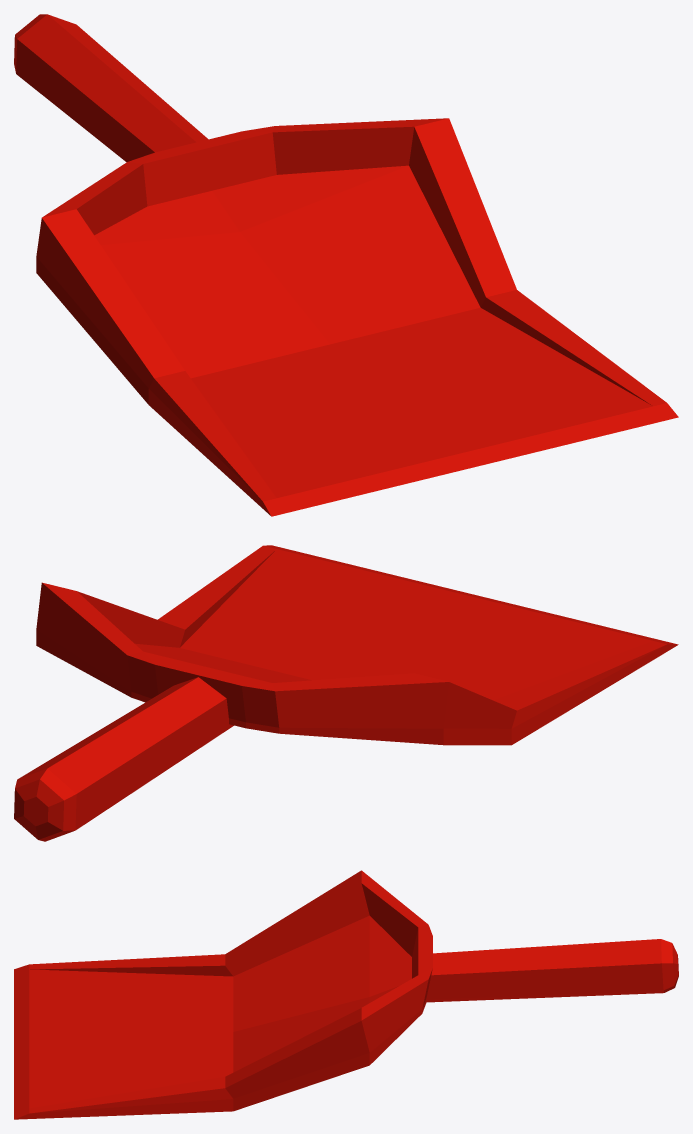
File: Dustpan.fbx
3 views of the same model, one above another, from view 1: azimuth 30°, elevation 25°; view 2: azimuth 150°, elevation 25°; view 3: azimuth 270°, elevation 25° (orthographic). The views are drawn at different scales.
Parts seen in each view (by area): view 1: Dustpan; view 2: Dustpan; view 3: Dustpan.
Part boxes in pixels (box(x1,y1,x2,y2)): Dustpan: box(14, 14, 678, 516); Dustpan: box(14, 545, 678, 841); Dustpan: box(14, 870, 678, 1119).
Bounding box in the file's own units: 27.18 × 8.9 × 50.8.
